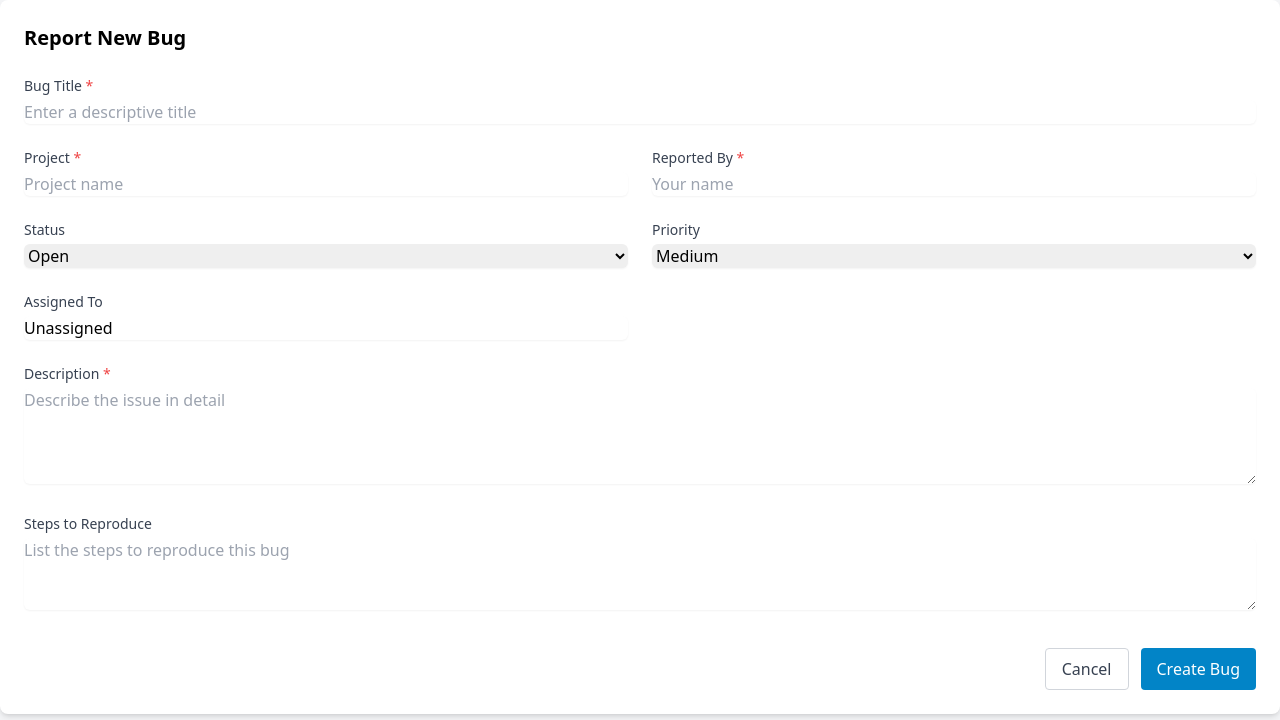
it: BugForm Component › handles API errors
Note: Fill out form
Type "New Bug Title" into the field with test id "bug-title-input".
click(640, 112); type("New Bug Title")  # box [24,100,1256,124]
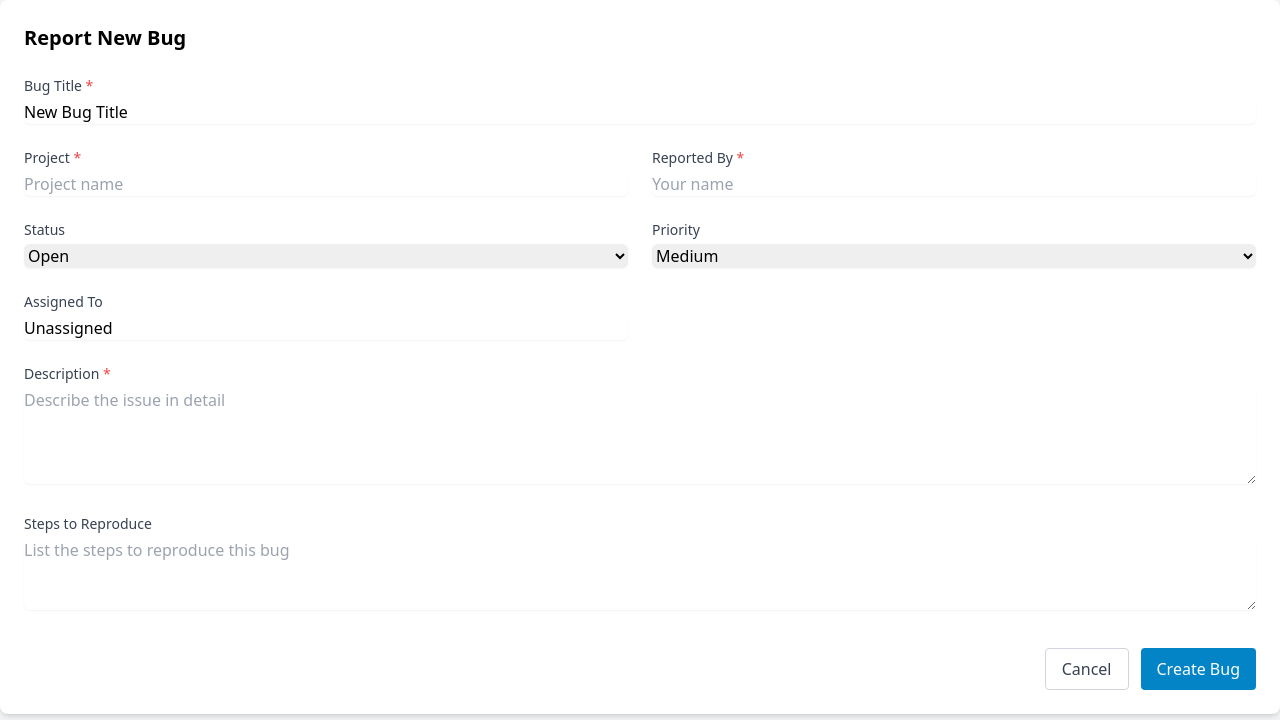
Type "New Bug Description" into the text box with test id "bug-description-input".
click(640, 436); type("New Bug Description")  # box [24,388,1256,484]
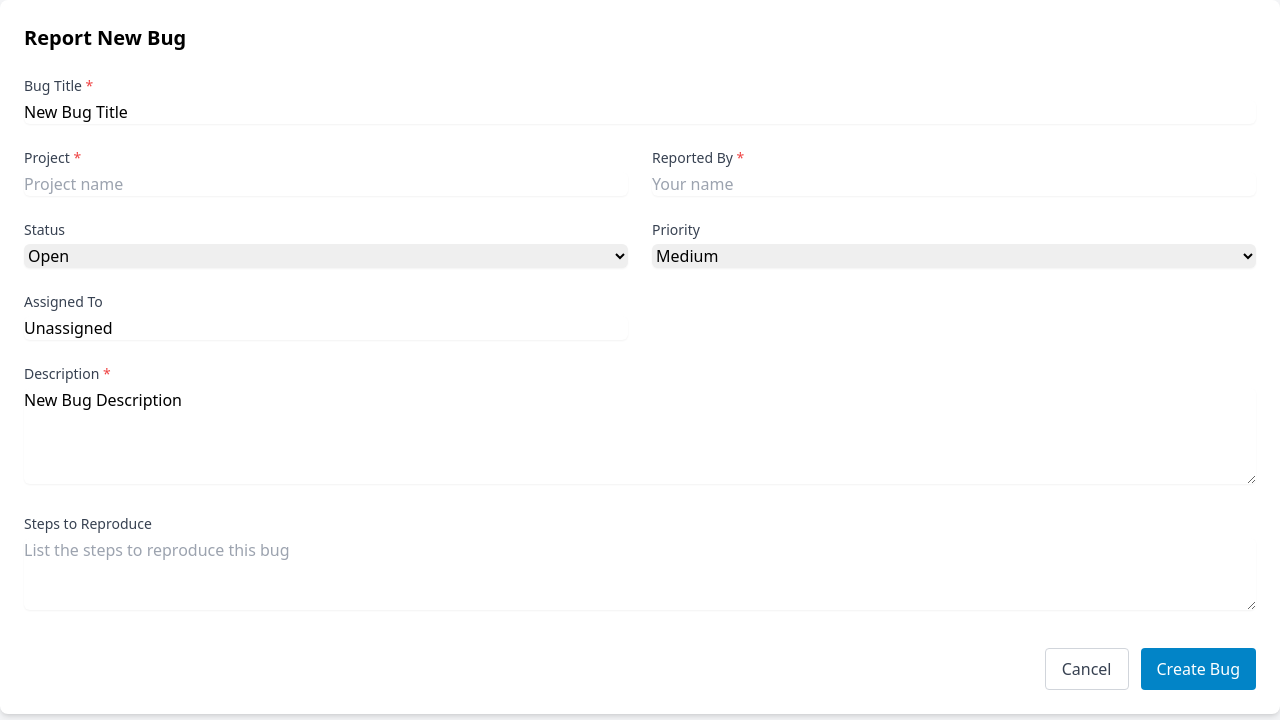
Type "Test Project" into the field labelled "Project *".
click(326, 184); type("Test Project")  # box [24,172,628,196]
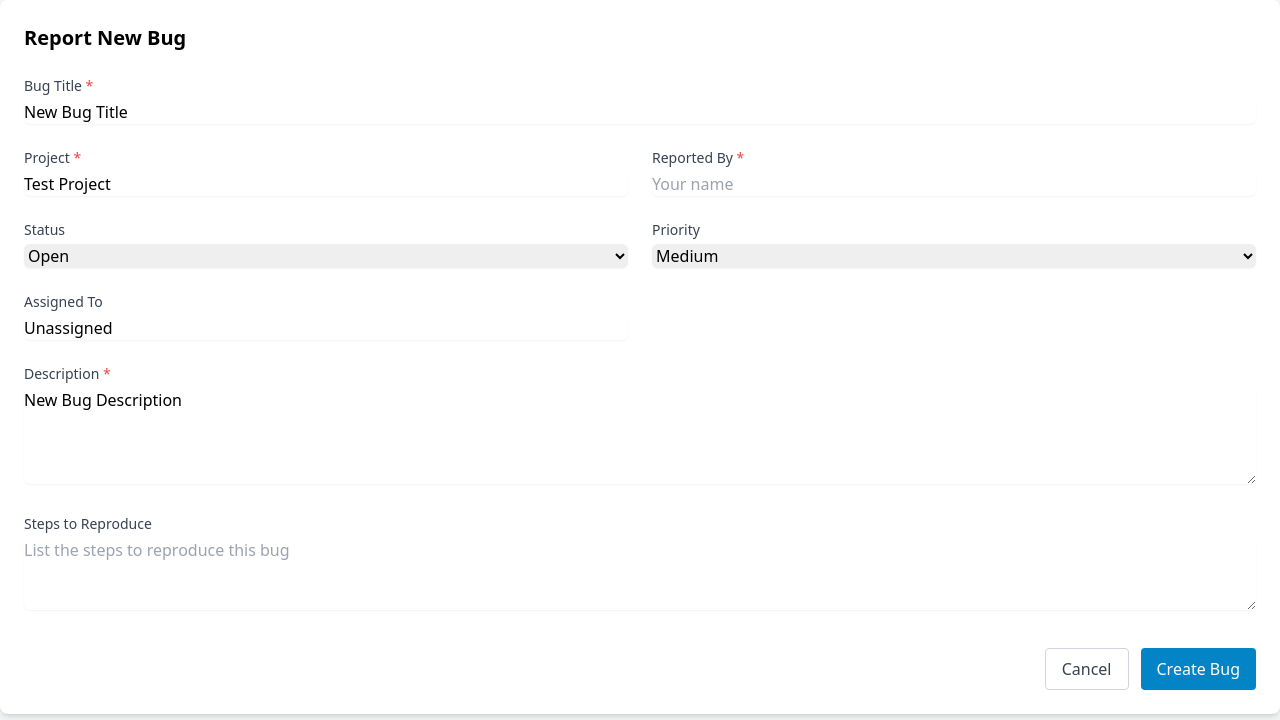
Type "Test User" into the field labelled "Reported By *".
click(954, 184); type("Test User")  # box [652,172,1256,196]
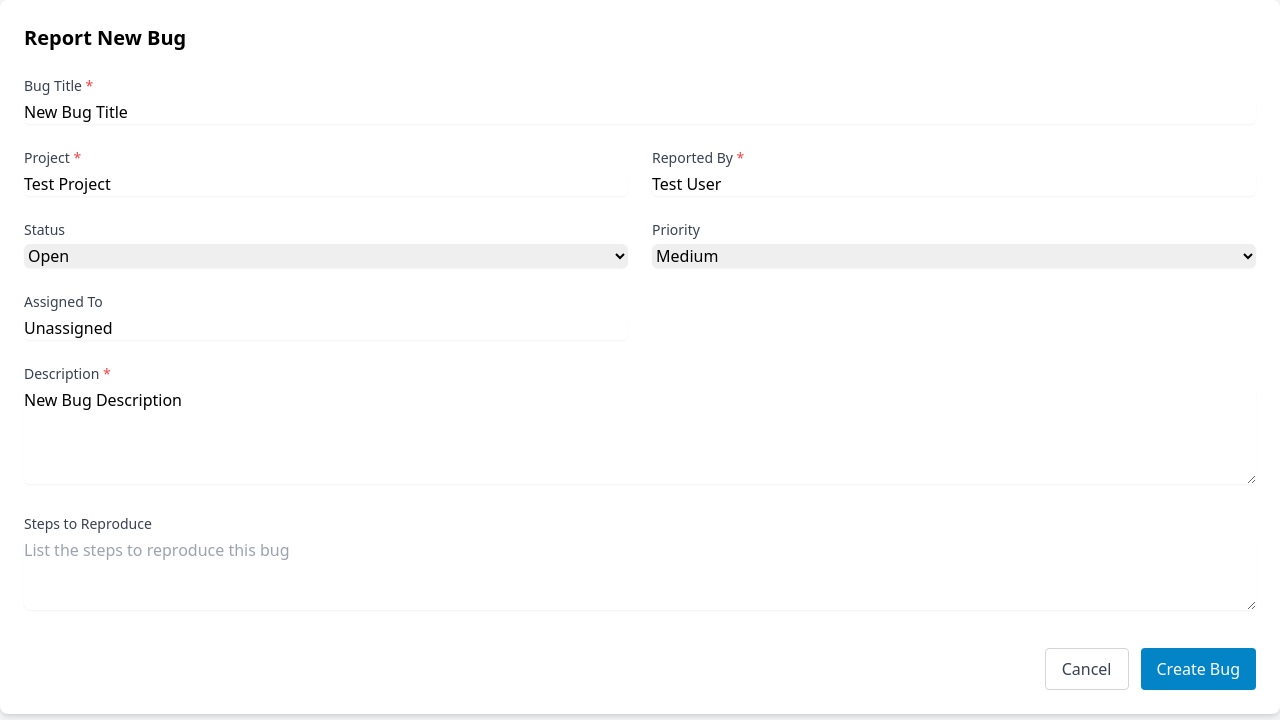
Note: Submit form
Click the button with test id "submit-bug-button".
click(1198, 669)  # box [1140,648,1256,690]
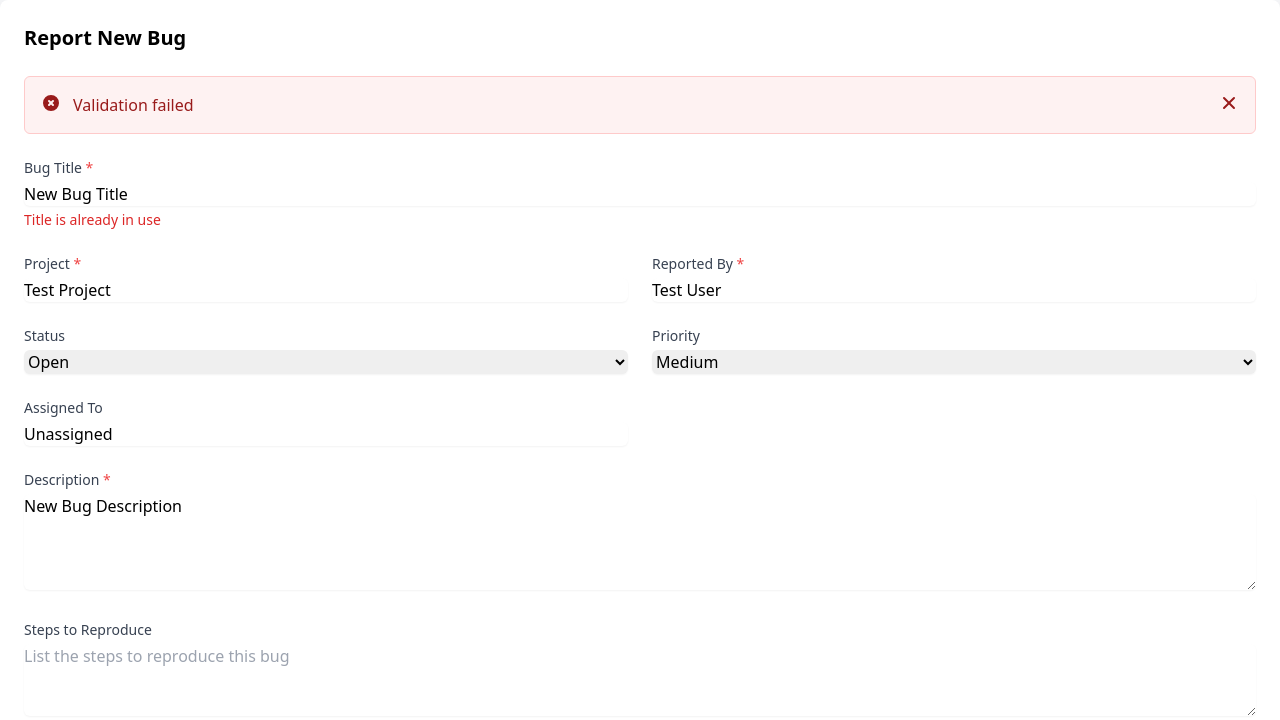
Expected: the text "Validation failed" is shown, [73,94,194,116]
